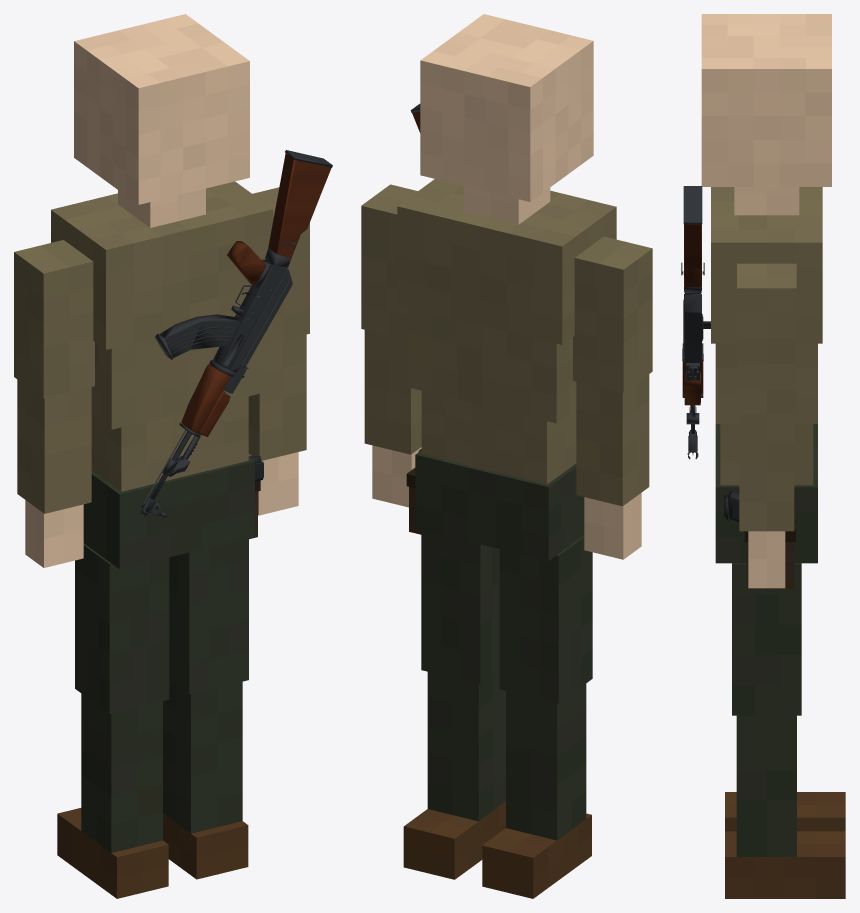
The model's file is npc_militia.glb.
3 views of the same model, side by side, from view 1: azimuth 30°, elevation 25°; view 2: azimuth 150°, elevation 25°; view 3: azimuth 270°, elevation 25° (orthographic). The views are drawn at different scales.
Visible parts, largest first — view 1: head, chestU, thighR, pelvis, Body_Mesh, uarmR, shinR, thighL, shinL, chestL, farmR, waist (+8 smaller); view 2: head, chestU, thighR, chestL, pelvis, uarmR, shinR, thighL, shinL, waist, farmR, farmL (+6 smaller); view 3: head, chestU, thighL, uarmL, shinL, footL, farmL, Body_Mesh, pelvis, chestL, waist, footR (+3 smaller).
Part boxes in pixels (x1,y1,x2,y2): head: (74, 14, 249, 204); chestU: (51, 181, 273, 349); thighR: (75, 543, 169, 713); pelvis: (83, 457, 254, 569); Body_Mesh: (141, 150, 332, 515); uarmR: (14, 240, 94, 398); shinR: (81, 693, 162, 852); thighL: (169, 538, 248, 694); shinL: (163, 680, 242, 833); chestL: (91, 337, 262, 429); farmR: (17, 379, 91, 513); waist: (91, 396, 248, 491); head: (420, 14, 593, 201); chestU: (397, 179, 616, 344); thighR: (499, 535, 592, 703); chestL: (407, 307, 576, 423); pelvis: (415, 450, 584, 560); uarmR: (573, 236, 652, 392); shinR: (506, 683, 586, 840); thighL: (421, 530, 499, 684); shinL: (427, 670, 505, 821); waist: (421, 391, 576, 484); farmR: (576, 374, 649, 506); farmL: (364, 330, 421, 454); head: (701, 14, 831, 186); chestU: (711, 187, 822, 343); thighL: (732, 563, 801, 715); uarmL: (737, 263, 796, 414); shinL: (736, 715, 796, 856); footL: (725, 831, 845, 898); farmL: (739, 414, 794, 531); Body_Mesh: (681, 186, 704, 433); pelvis: (715, 424, 817, 563); chestL: (715, 343, 817, 423); waist: (720, 424, 813, 485); footR: (725, 792, 845, 831).
Size of the model in its own units: 0.669 by 1.96 by 0.3543.
34 materials, 1 textured.
